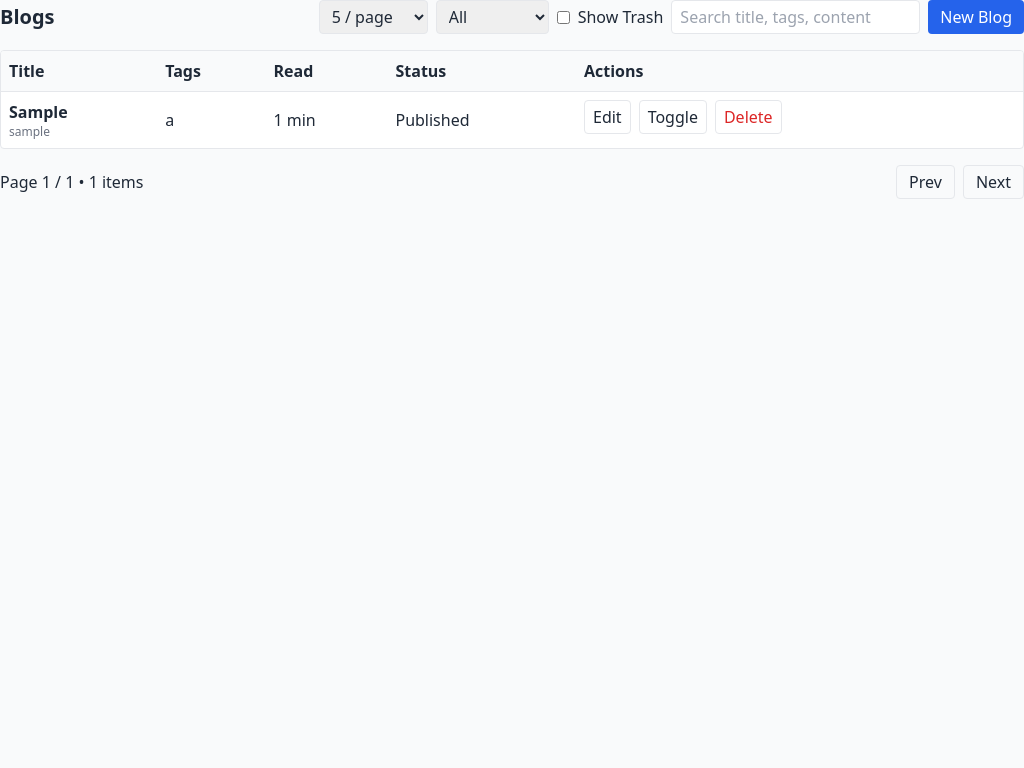
Test case: BlogsPage › edit form Save disabled until changed
The width and height of the screenshot is (1024, 768).
// open edit for existing sample
Click the button "Edit": (607, 117) [584,100,631,134]
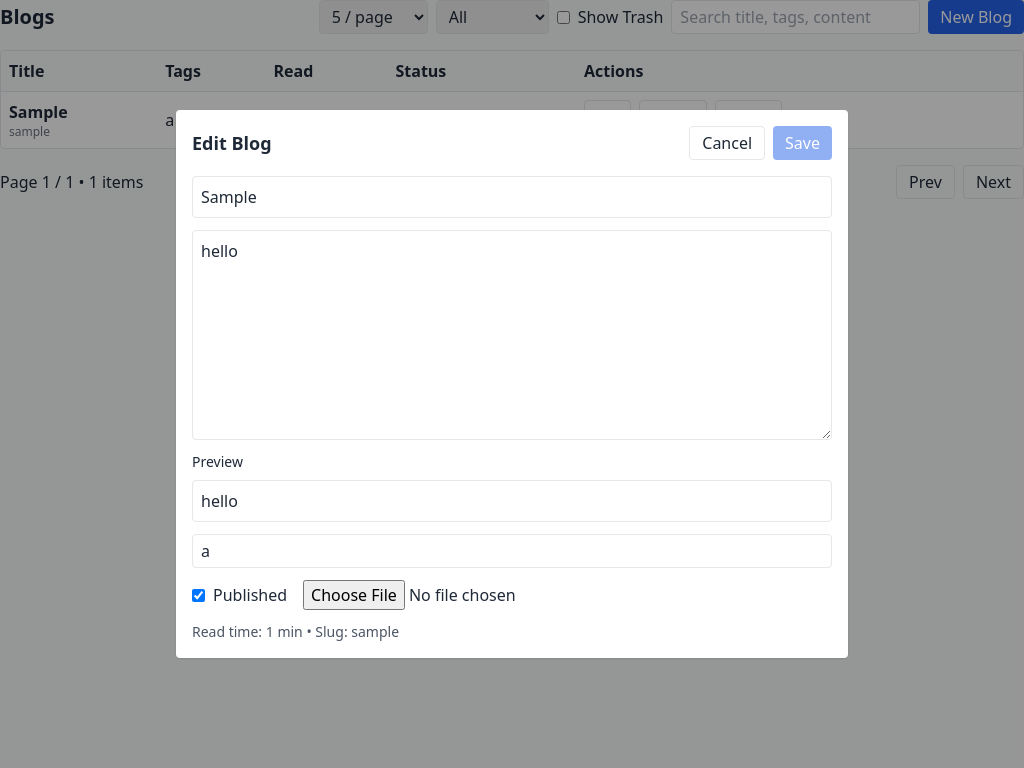
Check: the button "Save" is disabled, box [773,126,832,160]
Replace the text in the 1st field with placeholder "Title" with "Sample Updated": (512, 197) [192,176,832,218]
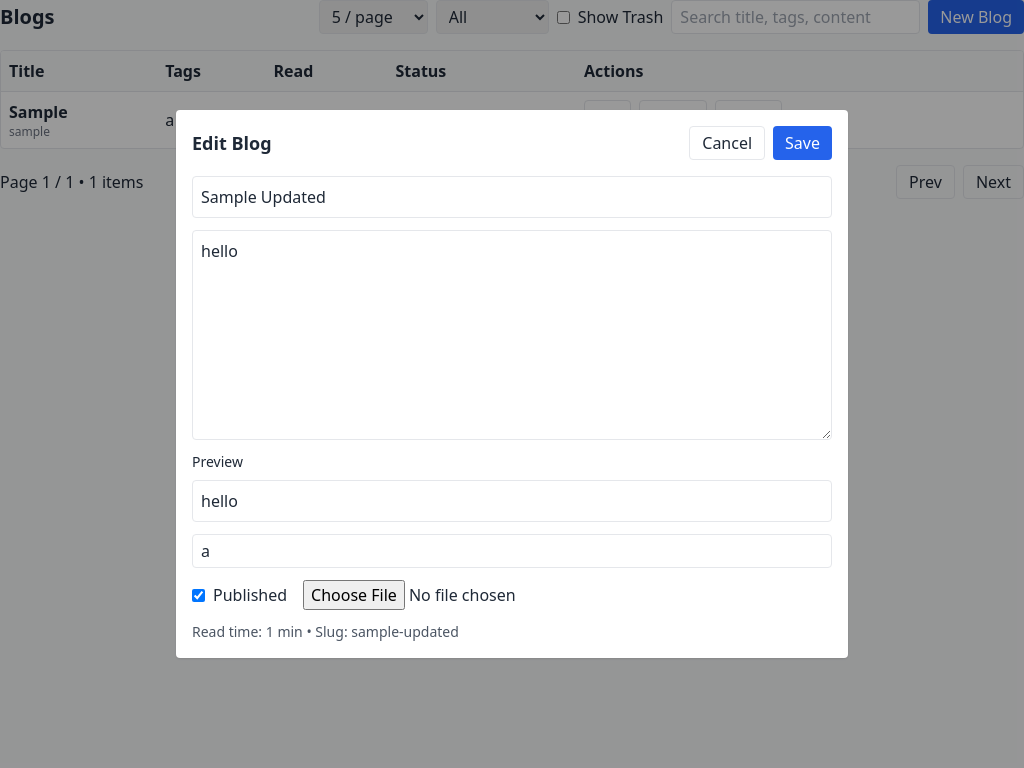
Check: the button "Save" is enabled, box [773,126,832,160]
